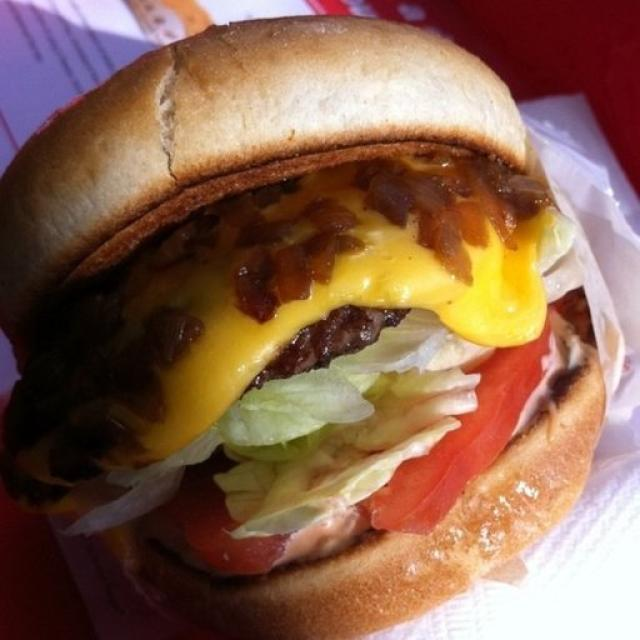burger: (9, 32, 640, 633)
